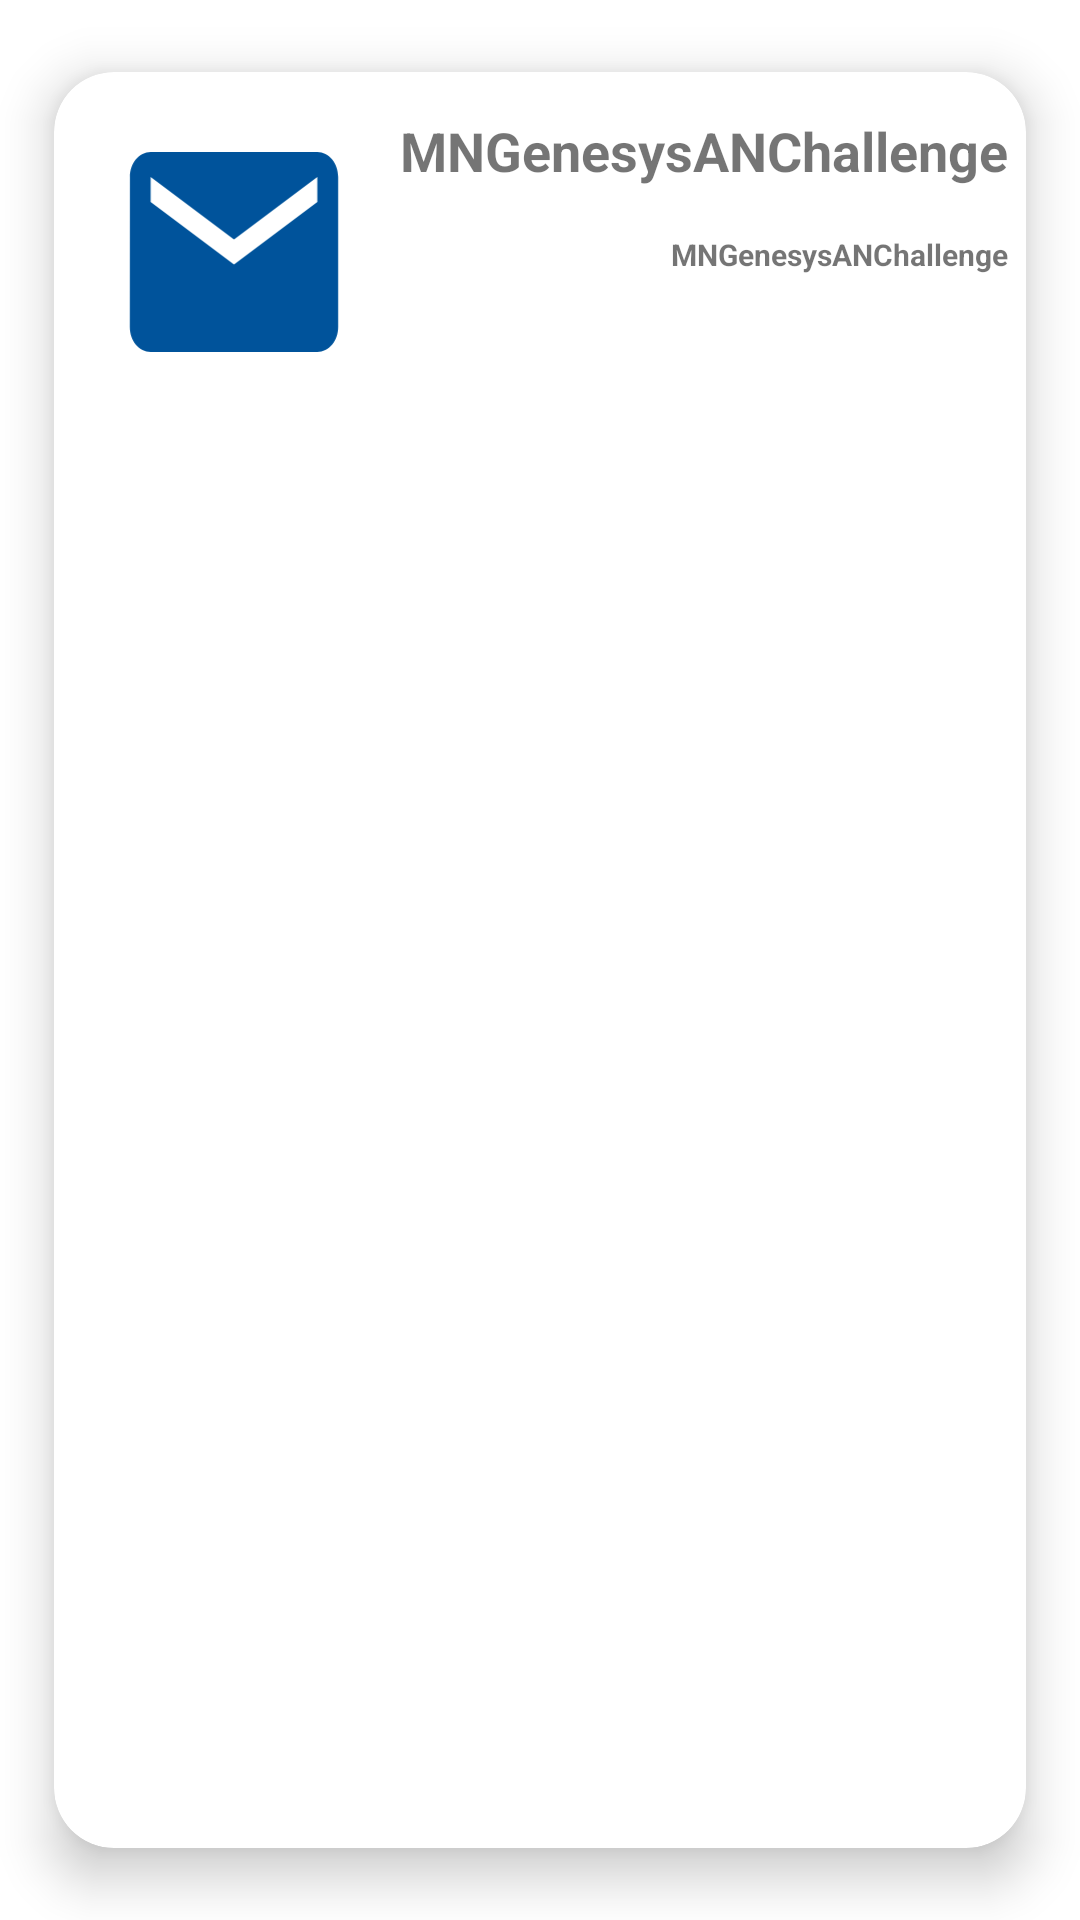

Icons on this 1080px x 1920px Android screen, each with the point to tap as (x=x, y=y):
email: (x=234, y=252)
